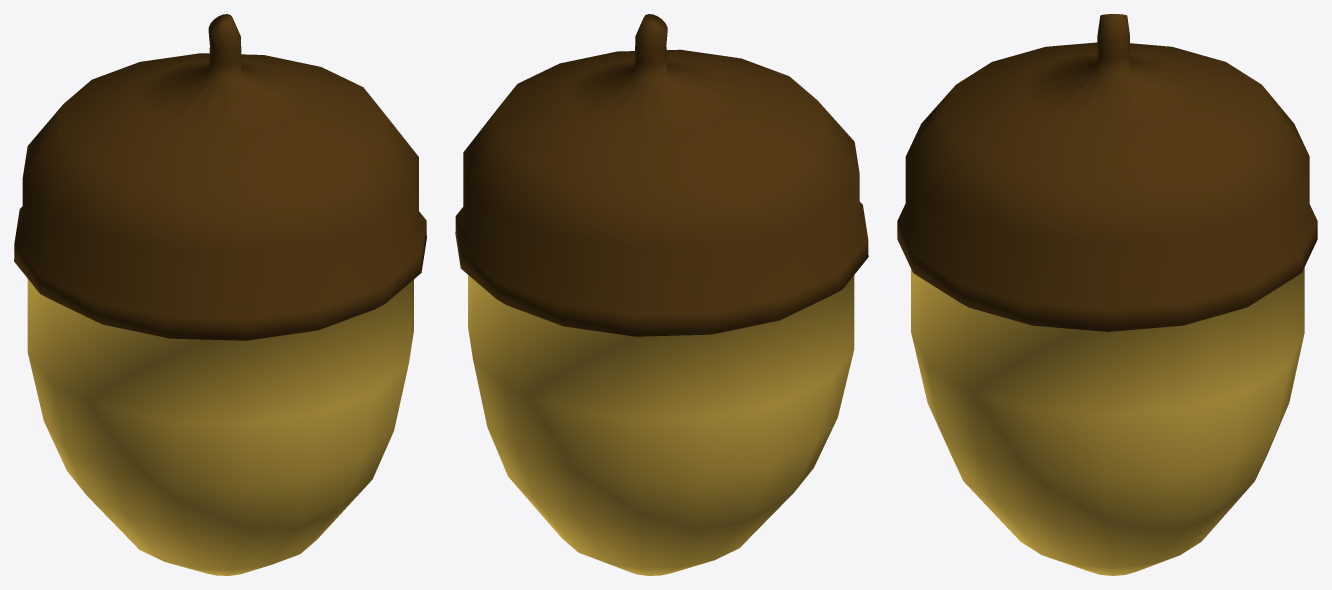
The model's file is alikorn.gltf.
3 views of the same model, side by side, from view 1: azimuth 30°, elevation 25°; view 2: azimuth 150°, elevation 25°; view 3: azimuth 270°, elevation 25° (orthographic).
Visible parts, largest first — view 1: Cylinder; view 2: Cylinder; view 3: Cylinder.
Part boxes in pixels (x1,y1,x2,y2): Cylinder: [14, 14, 426, 575]; Cylinder: [455, 14, 868, 575]; Cylinder: [897, 14, 1317, 575].
Bounding box in the file's own units: 2.08 × 3.01 × 2.08.
